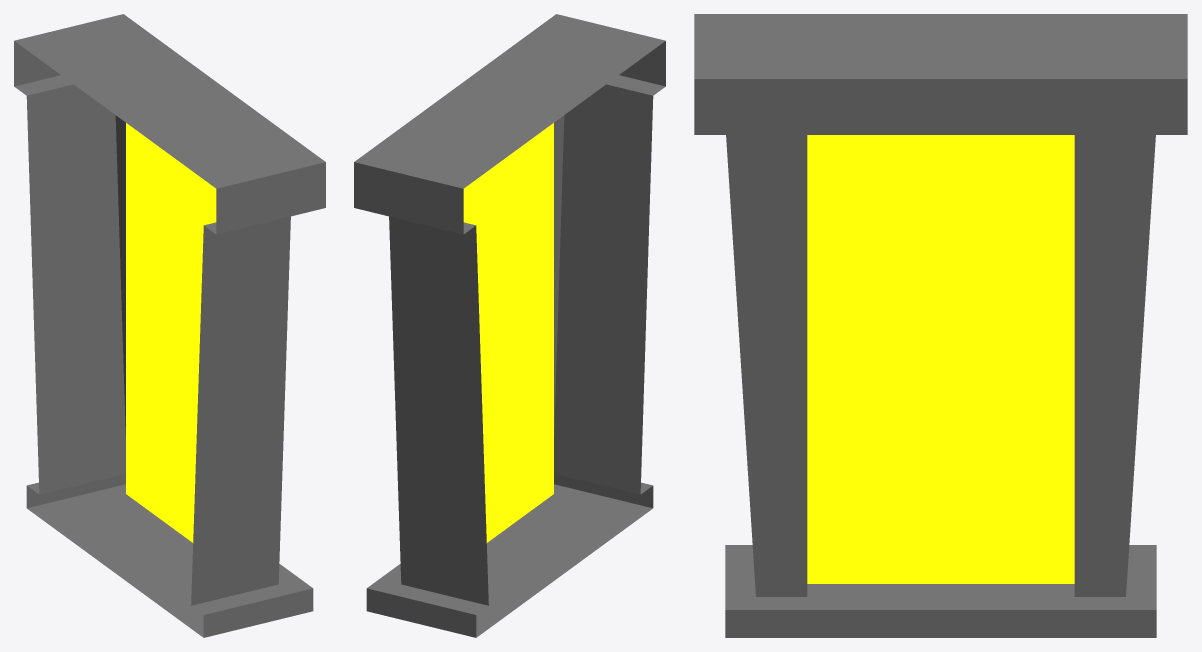
The model's file is paris_window_1.glb.
3 views of the same model, side by side, from view 1: azimuth 30°, elevation 25°; view 2: azimuth 150°, elevation 25°; view 3: azimuth 270°, elevation 25° (orthographic). The views are drawn at different scales.
Visible parts, largest first — view 1: Cube-convcol; view 2: Cube-convcol; view 3: Cube-convcol.
Part boxes in pixels (left/top/right/bottom): Cube-convcol: left=14, top=14, right=325, bottom=637; Cube-convcol: left=354, top=14, right=665, bottom=637; Cube-convcol: left=694, top=14, right=1187, bottom=637.
Size of the model in its own units: 0.5 by 2 by 1.6.
